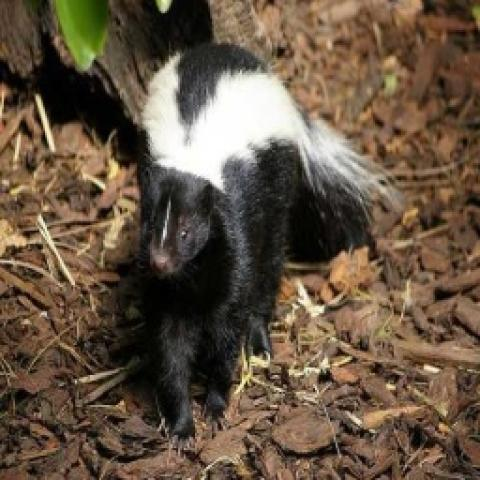small_animal: (112, 38, 398, 454)
